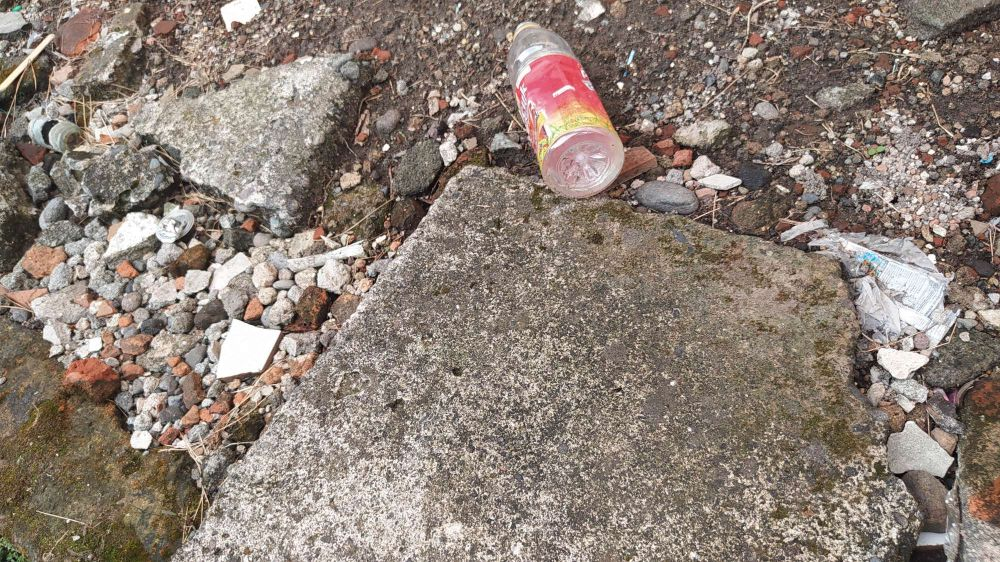botol: (492, 6, 640, 212)
